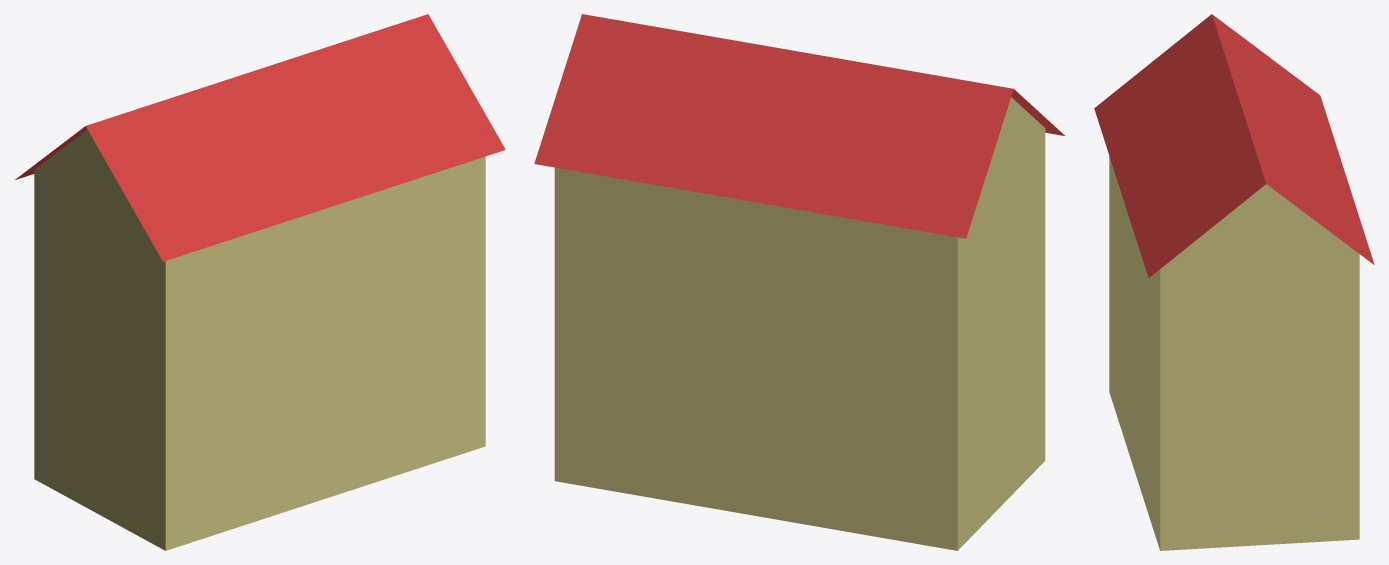
3 views of the same model, side by side, from view 1: azimuth 30°, elevation 25°; view 2: azimuth 150°, elevation 25°; view 3: azimuth 270°, elevation 25° (orthographic). The views are drawn at different scales.
Size of the model in its own units: 8.02 by 5.2 by 7.49.
